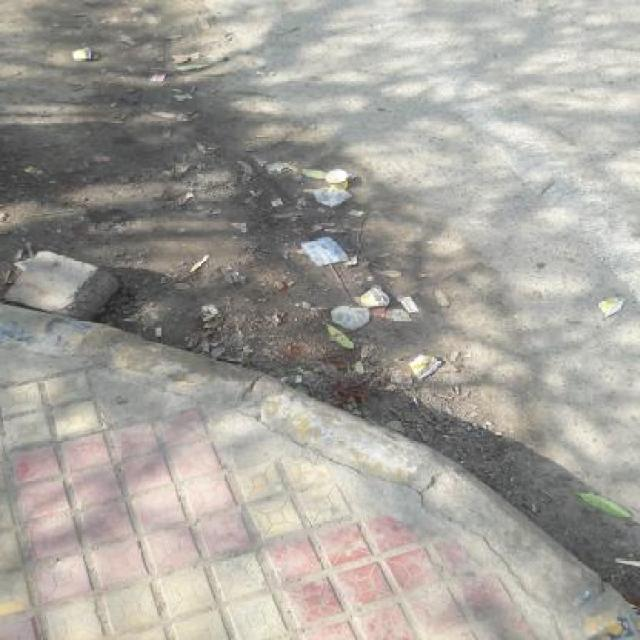garbage: (271, 157, 415, 384), (549, 279, 626, 342), (52, 43, 124, 68)
